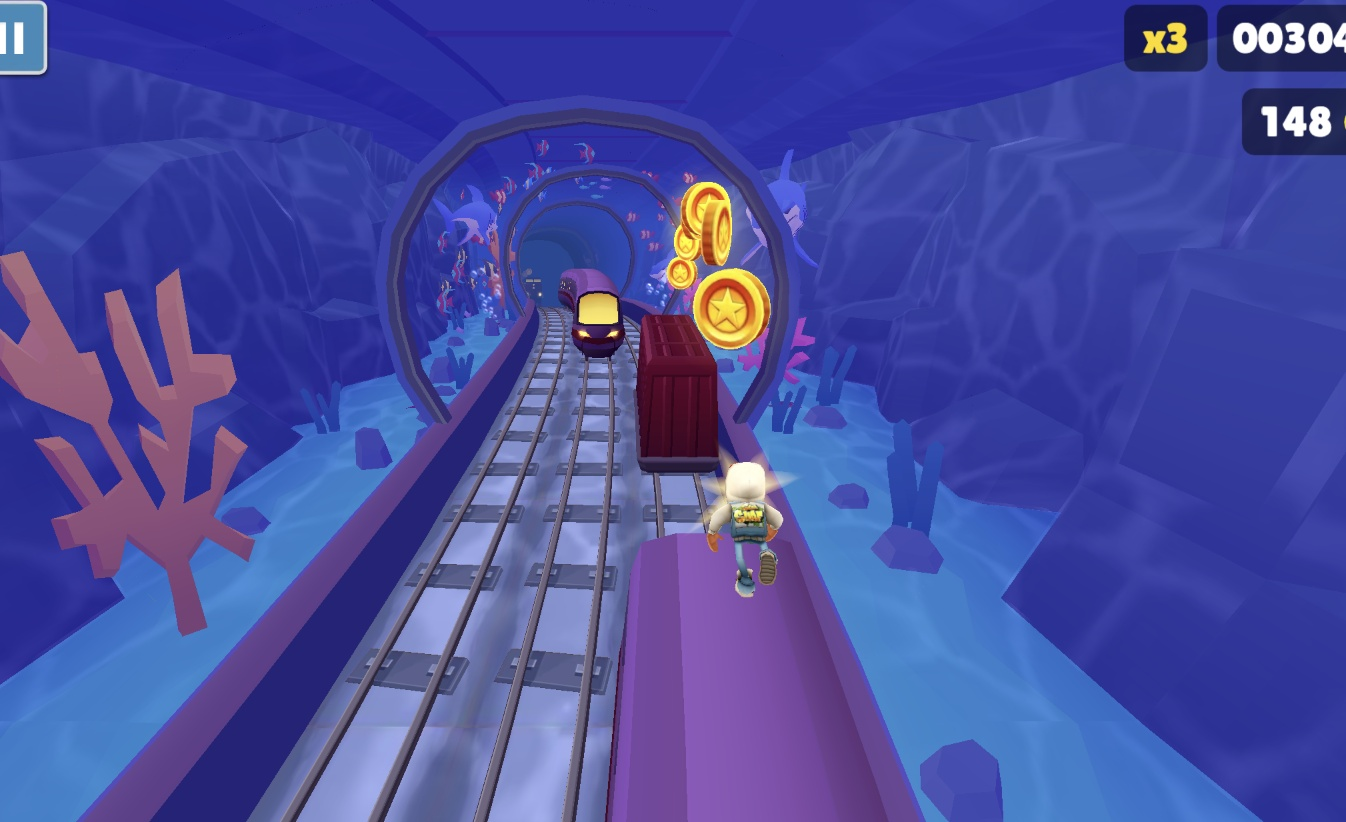train: (607, 532, 922, 822), (633, 315, 723, 476), (559, 267, 626, 361), (522, 277, 546, 305)
